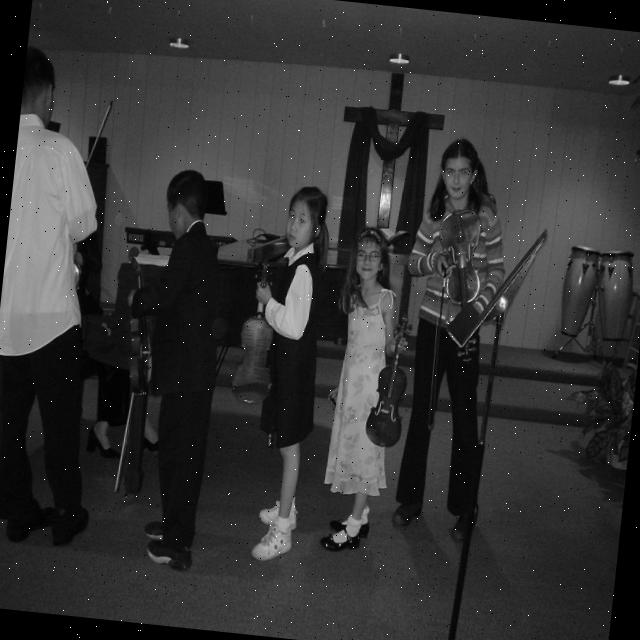violin: (226, 254, 286, 412), (113, 245, 169, 398), (362, 308, 418, 451), (431, 206, 492, 310)
